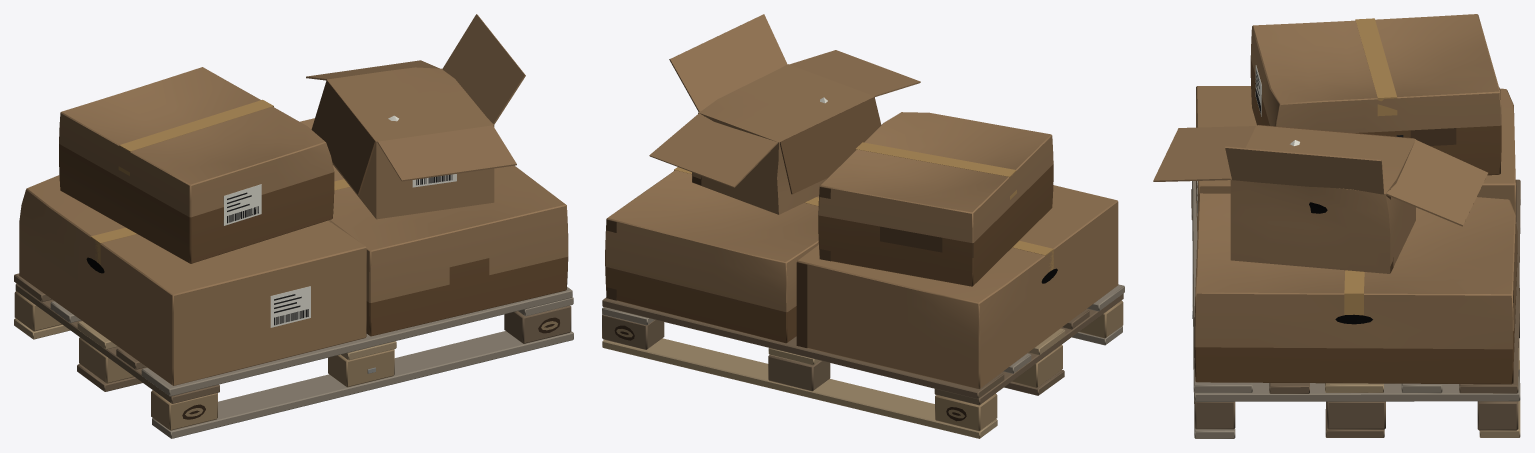
File: pallet@3.glb
3 views of the same model, side by side, from view 1: azimuth 30°, elevation 25°; view 2: azimuth 150°, elevation 25°; view 3: azimuth 270°, elevation 25° (orthographic). The views are drawn at different scales.
Visible parts, largest first — view 1: palette9, palette14, palette0, palette3, palette1, palette15, palette12, palette11, palette2, palette13; view 2: palette9, palette14, palette1, palette2, palette15, palette3, palette10, palette11, palette0; view 3: palette9, palette14, palette1, palette0, palette11, palette2, palette10, palette5.
Part boxes in pixels (box(x1,y1,x2,y2)): palette9: box(19, 14, 568, 385); palette14: box(59, 144, 568, 336); palette0: box(50, 287, 573, 438); palette3: box(14, 291, 557, 430); palette1: box(14, 273, 571, 403); palette15: box(311, 80, 375, 194); palette12: box(223, 115, 456, 327); palette11: box(91, 99, 350, 264); palette2: box(14, 318, 396, 360); palette13: box(227, 174, 452, 325); palette9: box(605, 14, 1118, 389); palette14: box(605, 164, 1053, 343); palette1: box(602, 293, 1123, 405); palette2: box(602, 328, 1065, 438); palette15: box(780, 97, 881, 194); palette3: box(616, 300, 1123, 431); palette10: box(606, 116, 973, 347); palette11: box(674, 142, 1053, 271); palette0: box(602, 284, 1124, 373); palette9: box(1153, 14, 1517, 349); palette14: box(1194, 59, 1517, 384); palette1: box(1191, 179, 1520, 437); palette0: box(1192, 181, 1520, 438); palette11: box(1344, 18, 1397, 315); palette2: box(1192, 284, 1520, 437); palette10: box(1386, 87, 1516, 383); palette5: box(1309, 202, 1372, 324).
Size of the model in its own units: 1.21 by 0.7457 by 0.9024.
